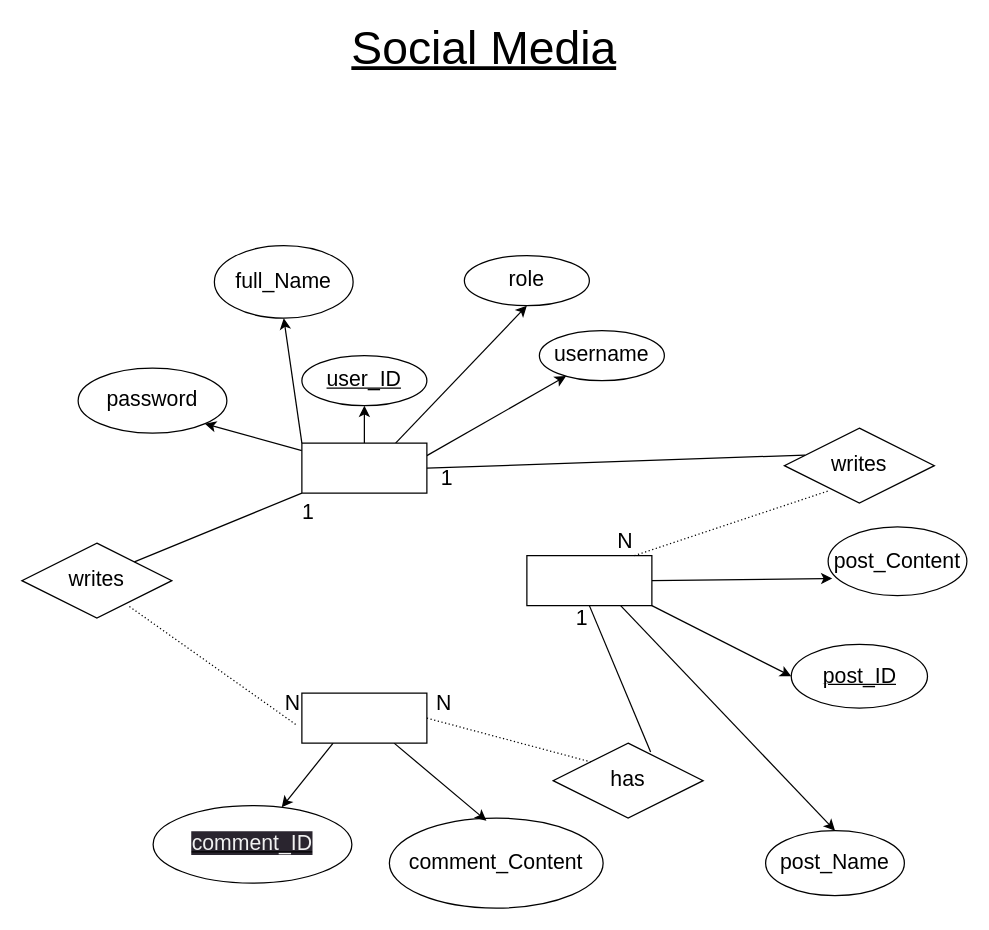
This 989x930 diagram has some shape labels left out. The centre of each missing label's shape, as x and y in pixels:
"comment" goes at (x=364, y=717).
"post" goes at (x=589, y=580).
"user" goes at (x=364, y=467).
